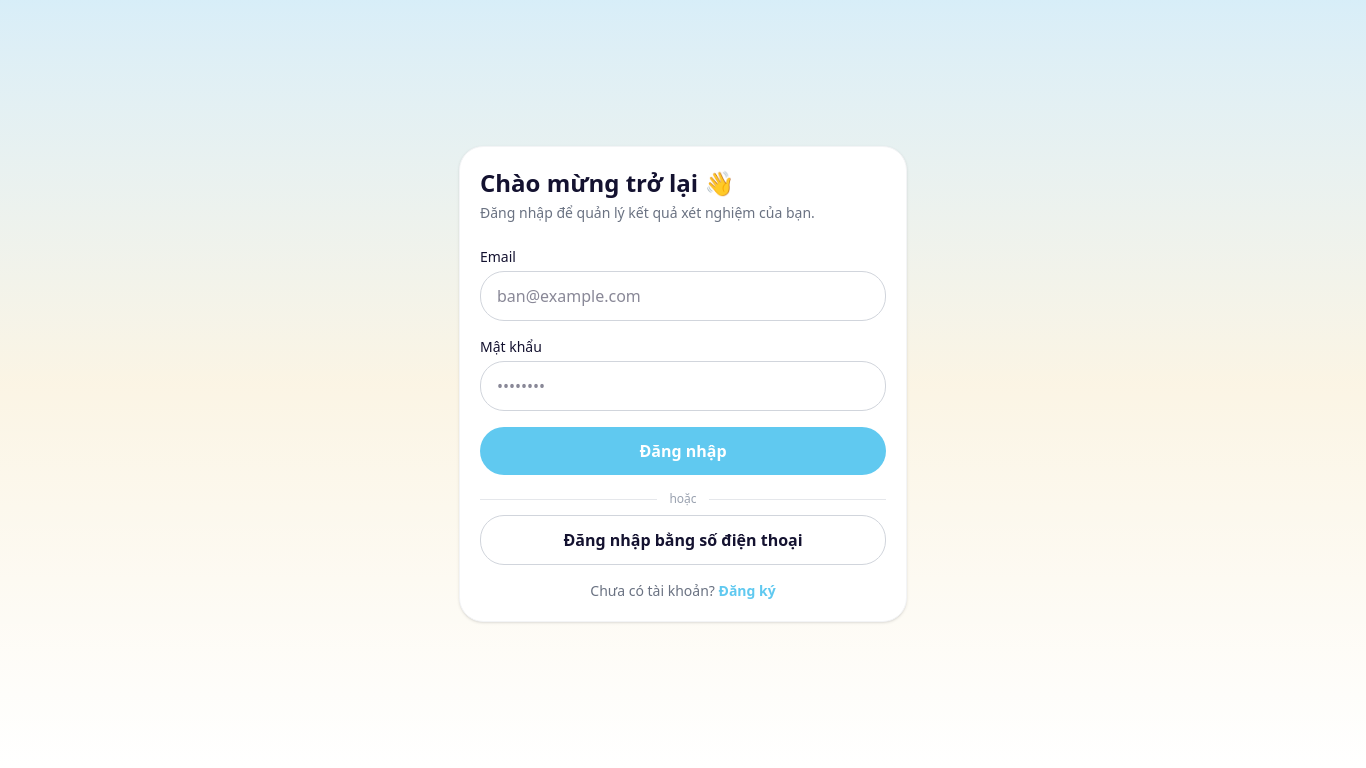
it: LoginPage provider buttons › opens the Vietnamese phone login mode without removing the email return path
Click the button "Đăng nhập bằng số điện thoại": (683, 540) [480,515,886,565]
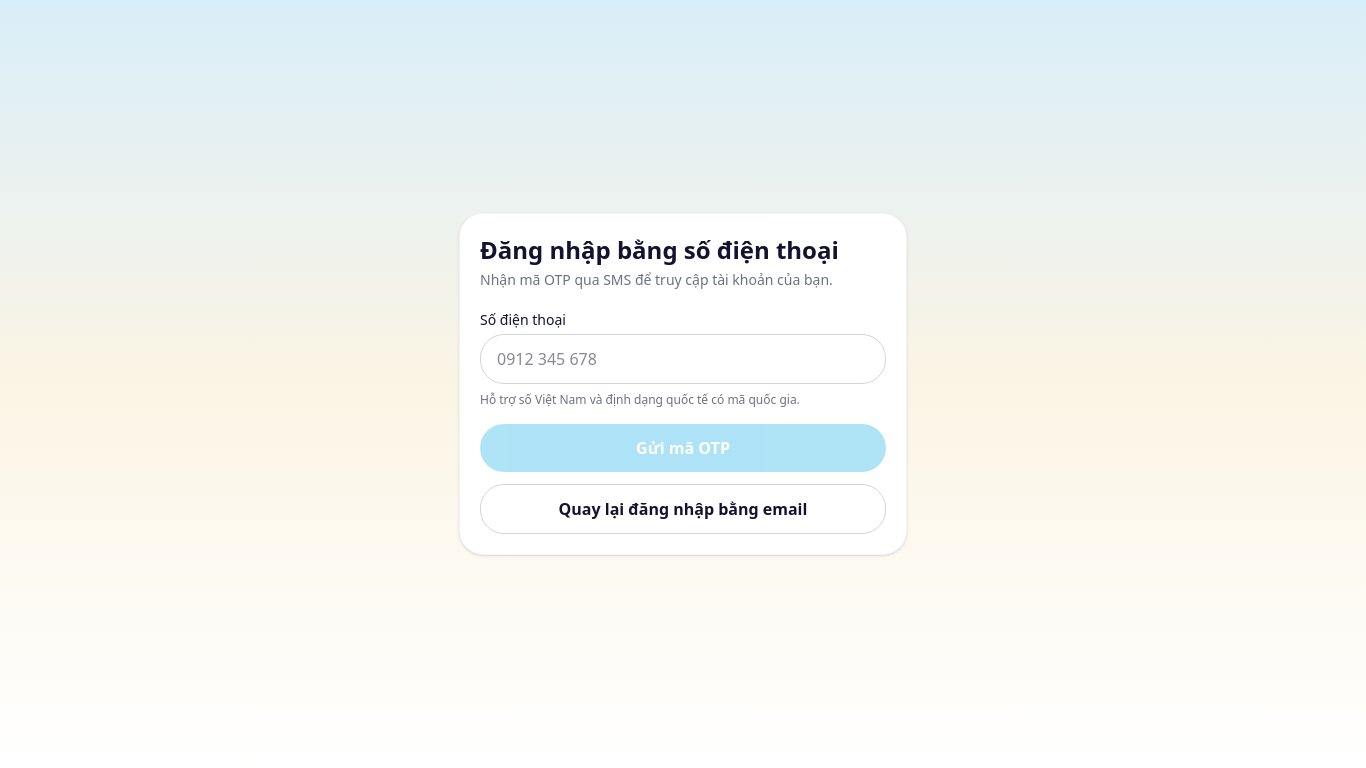
Expected: the heading "Đăng nhập bằng số điện thoại" is shown, [480,234,886,266]
Expected: the button "Quay lại đăng nhập bằng email" is shown, [480,484,886,534]
